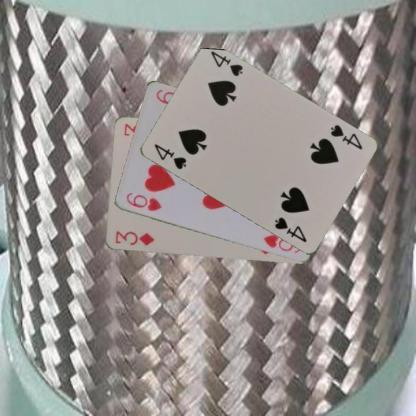3d: (113, 228, 155, 247)
4s: (326, 122, 364, 152), (151, 141, 188, 171)
6h: (123, 190, 163, 213)
